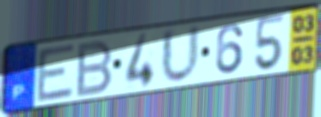4: (123, 31, 157, 91)
5: (253, 12, 286, 74)
6: (215, 23, 246, 75)
B: (74, 37, 115, 100)
E: (35, 40, 78, 105)
U: (159, 22, 202, 86)
